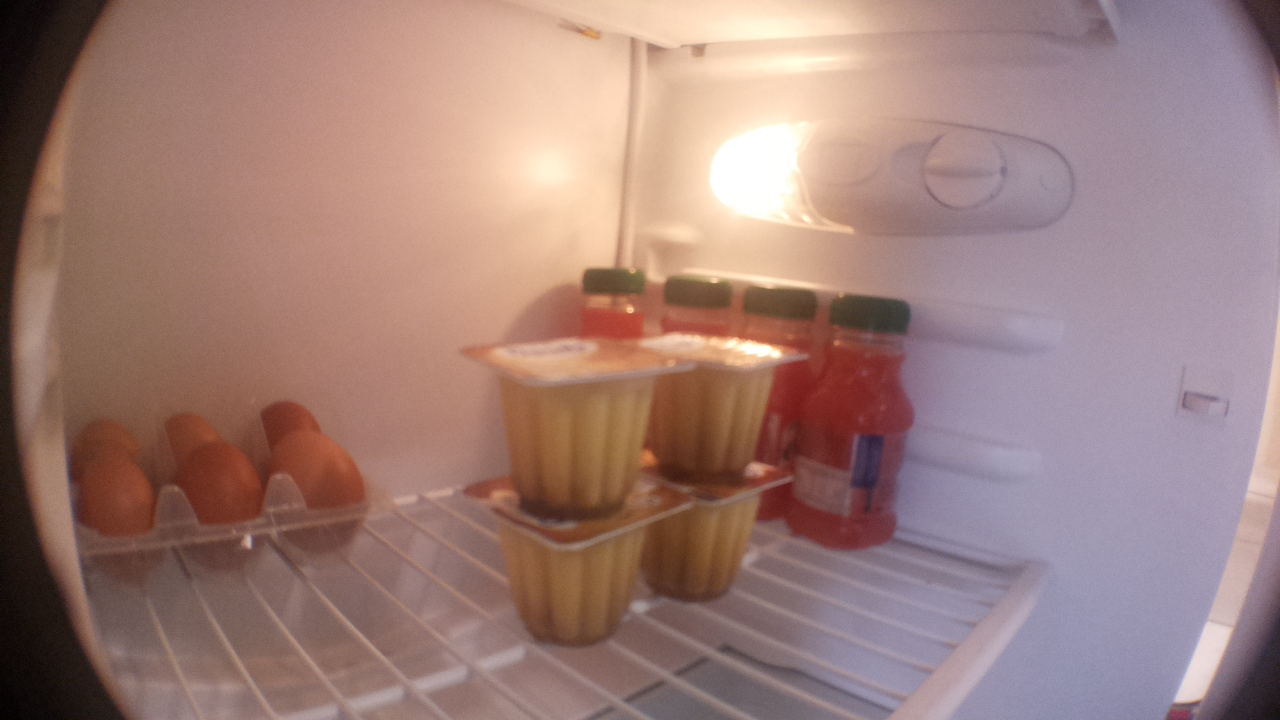caramel: (451, 337, 688, 515), (475, 477, 676, 653), (651, 326, 809, 486), (649, 469, 788, 611)
egg: (254, 421, 370, 570), (168, 439, 263, 583), (60, 461, 163, 592), (239, 384, 330, 454), (64, 415, 150, 467), (155, 407, 244, 453)
juice: (806, 287, 920, 559), (756, 275, 818, 548), (571, 257, 652, 333), (660, 257, 739, 333)
